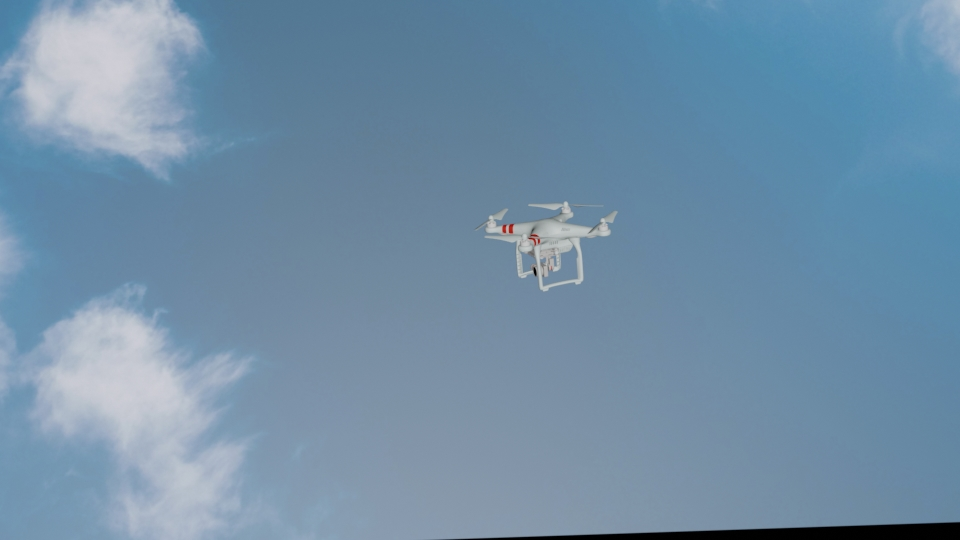drone: (473, 198, 618, 290)
